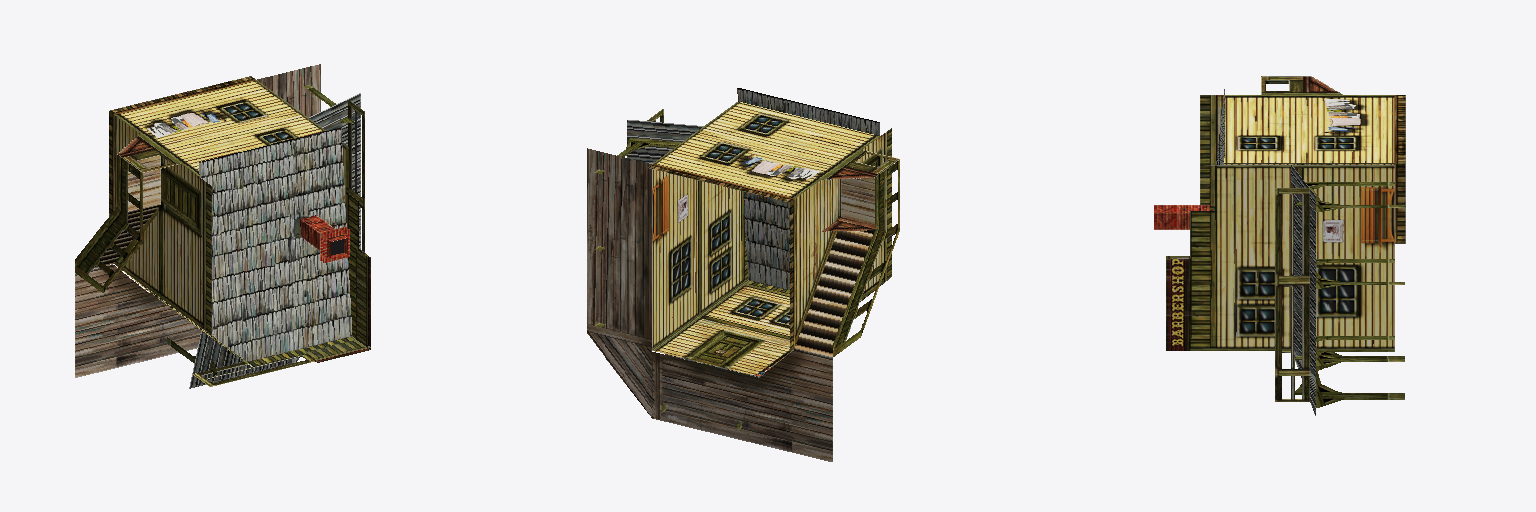
3 renders of one model, left to right at view 1: azimuth 30°, elevation 25°; view 2: azimuth 150°, elevation 25°; view 3: azimuth 270°, elevation 25°, orthographic.
Bounding box in the file's own units: 138 × 144 × 122.
25 materials, 23 textured.